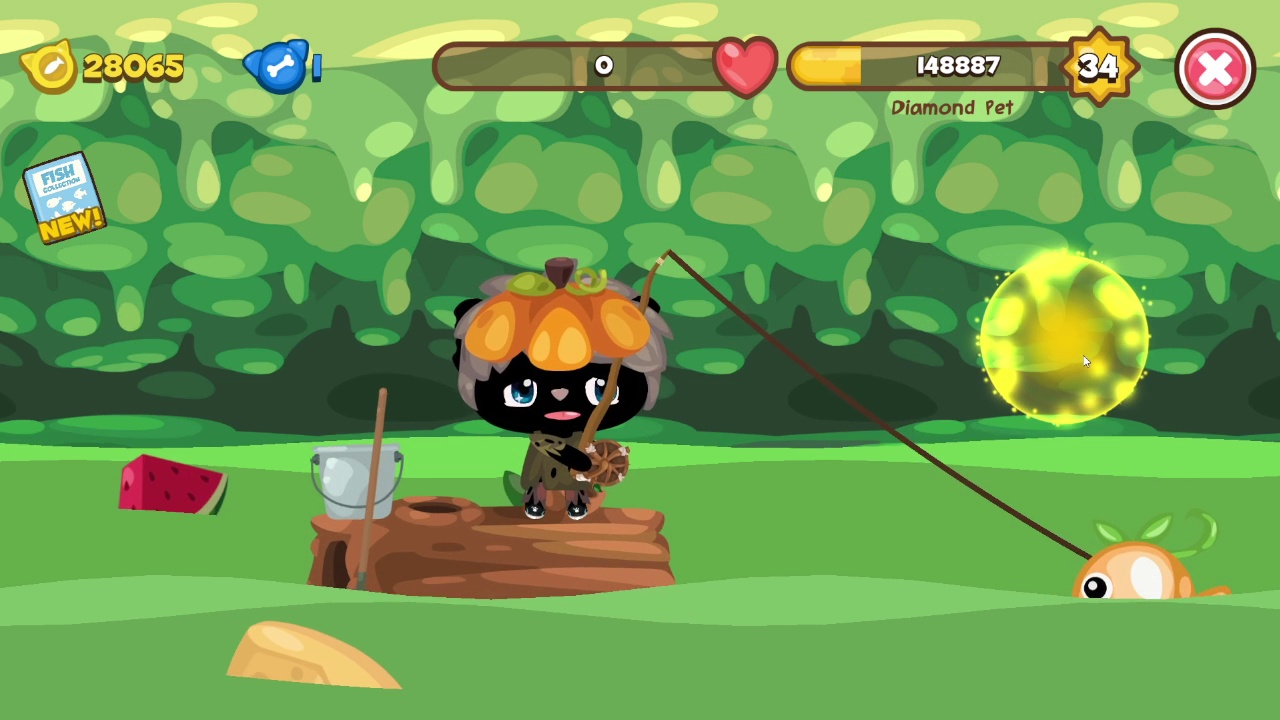point: (978, 251, 1151, 422)
